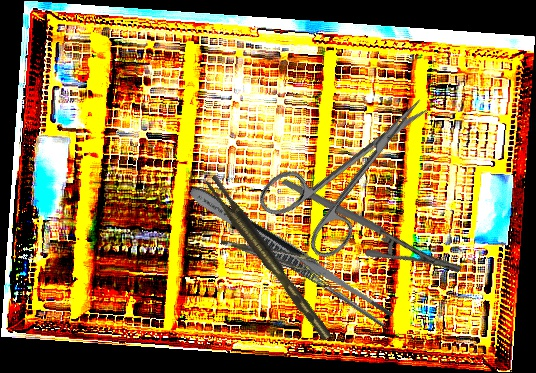Dressing Forceps: (184, 180, 396, 330)
Iris Scissors: (251, 69, 461, 271)
Needle Holder: (280, 132, 465, 318)
Tissue Forceps: (204, 171, 332, 347), (220, 226, 330, 282)
